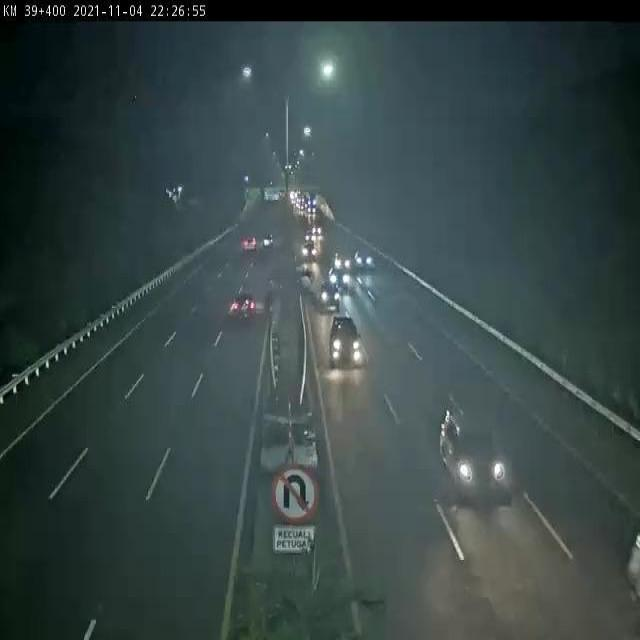car: (438, 408, 510, 501), (326, 320, 361, 364), (228, 292, 259, 321), (319, 279, 342, 313)
